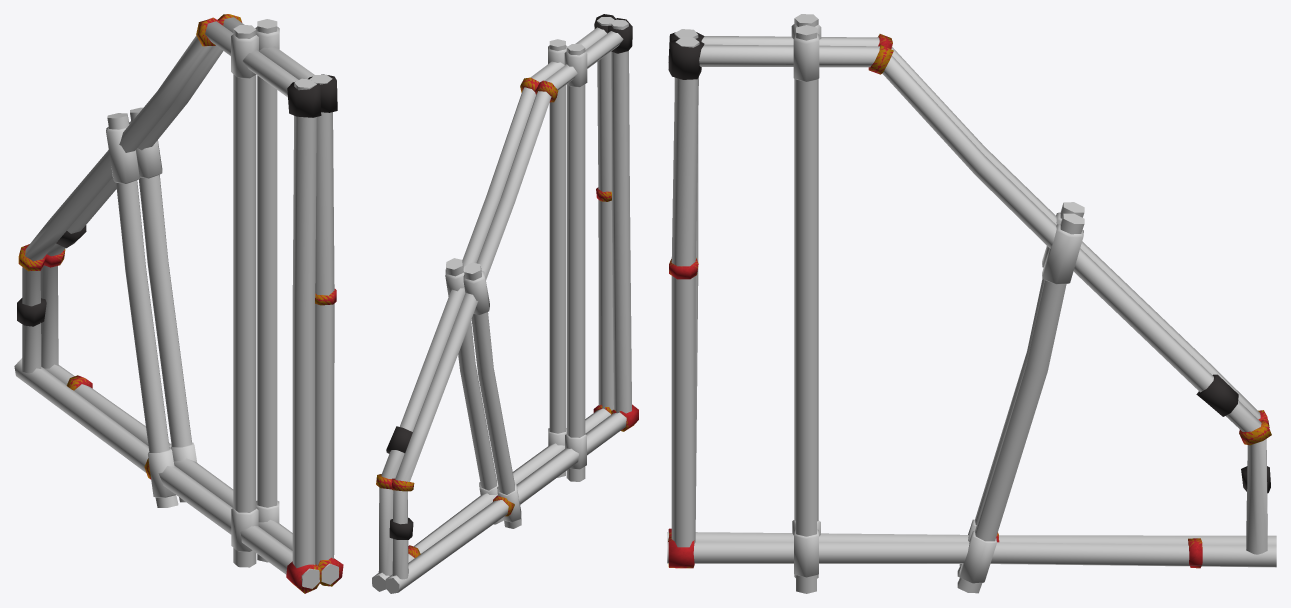
Rendered from builderRoofStubT03_WIP.FBX.
The picture shows the model from 3 angles, left to right: view 1: azimuth 30°, elevation 25°; view 2: azimuth 150°, elevation 25°; view 3: azimuth 270°, elevation 25°; orthographic projection. The views are drawn at different scales.
Parts seen in each view (by area): view 1: builderRoofStubT03T_WIP_LOD0; view 2: builderRoofStubT03T_WIP_LOD0; view 3: builderRoofStubT03T_WIP_LOD0.
Part boxes in pixels (<box>): builderRoofStubT03T_WIP_LOD0: <box>14,14,343,593</box>; builderRoofStubT03T_WIP_LOD0: <box>372,14,638,593</box>; builderRoofStubT03T_WIP_LOD0: <box>667,14,1276,593</box>.
Size of what is drawn, in the model's own units: 0.3093 by 3.18 by 3.14.
